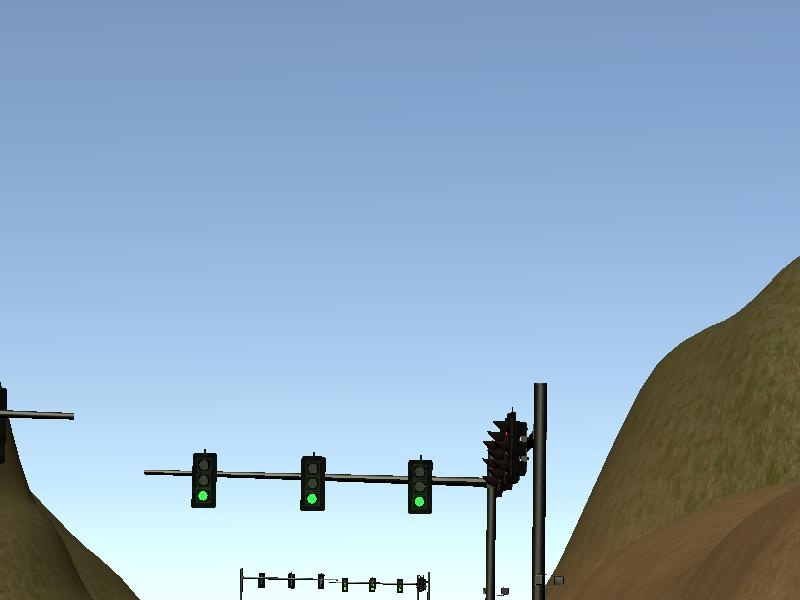Green: (300, 456, 326, 511), (192, 453, 217, 509), (408, 459, 433, 515)
